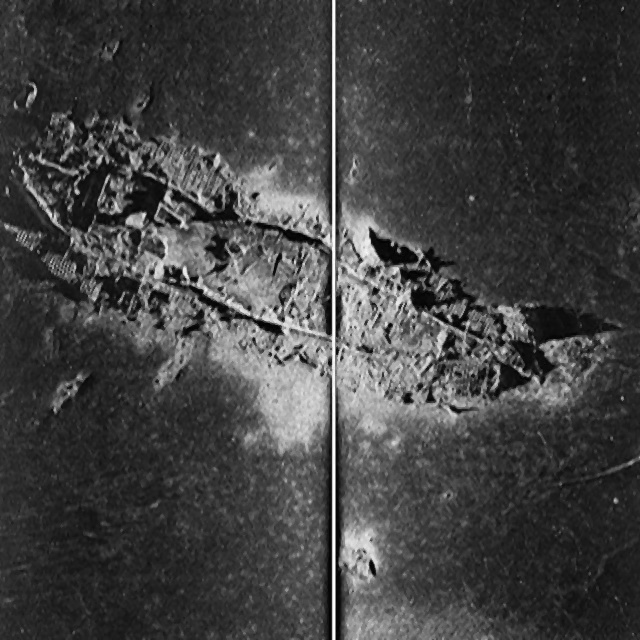Ship: (1, 101, 635, 433)
